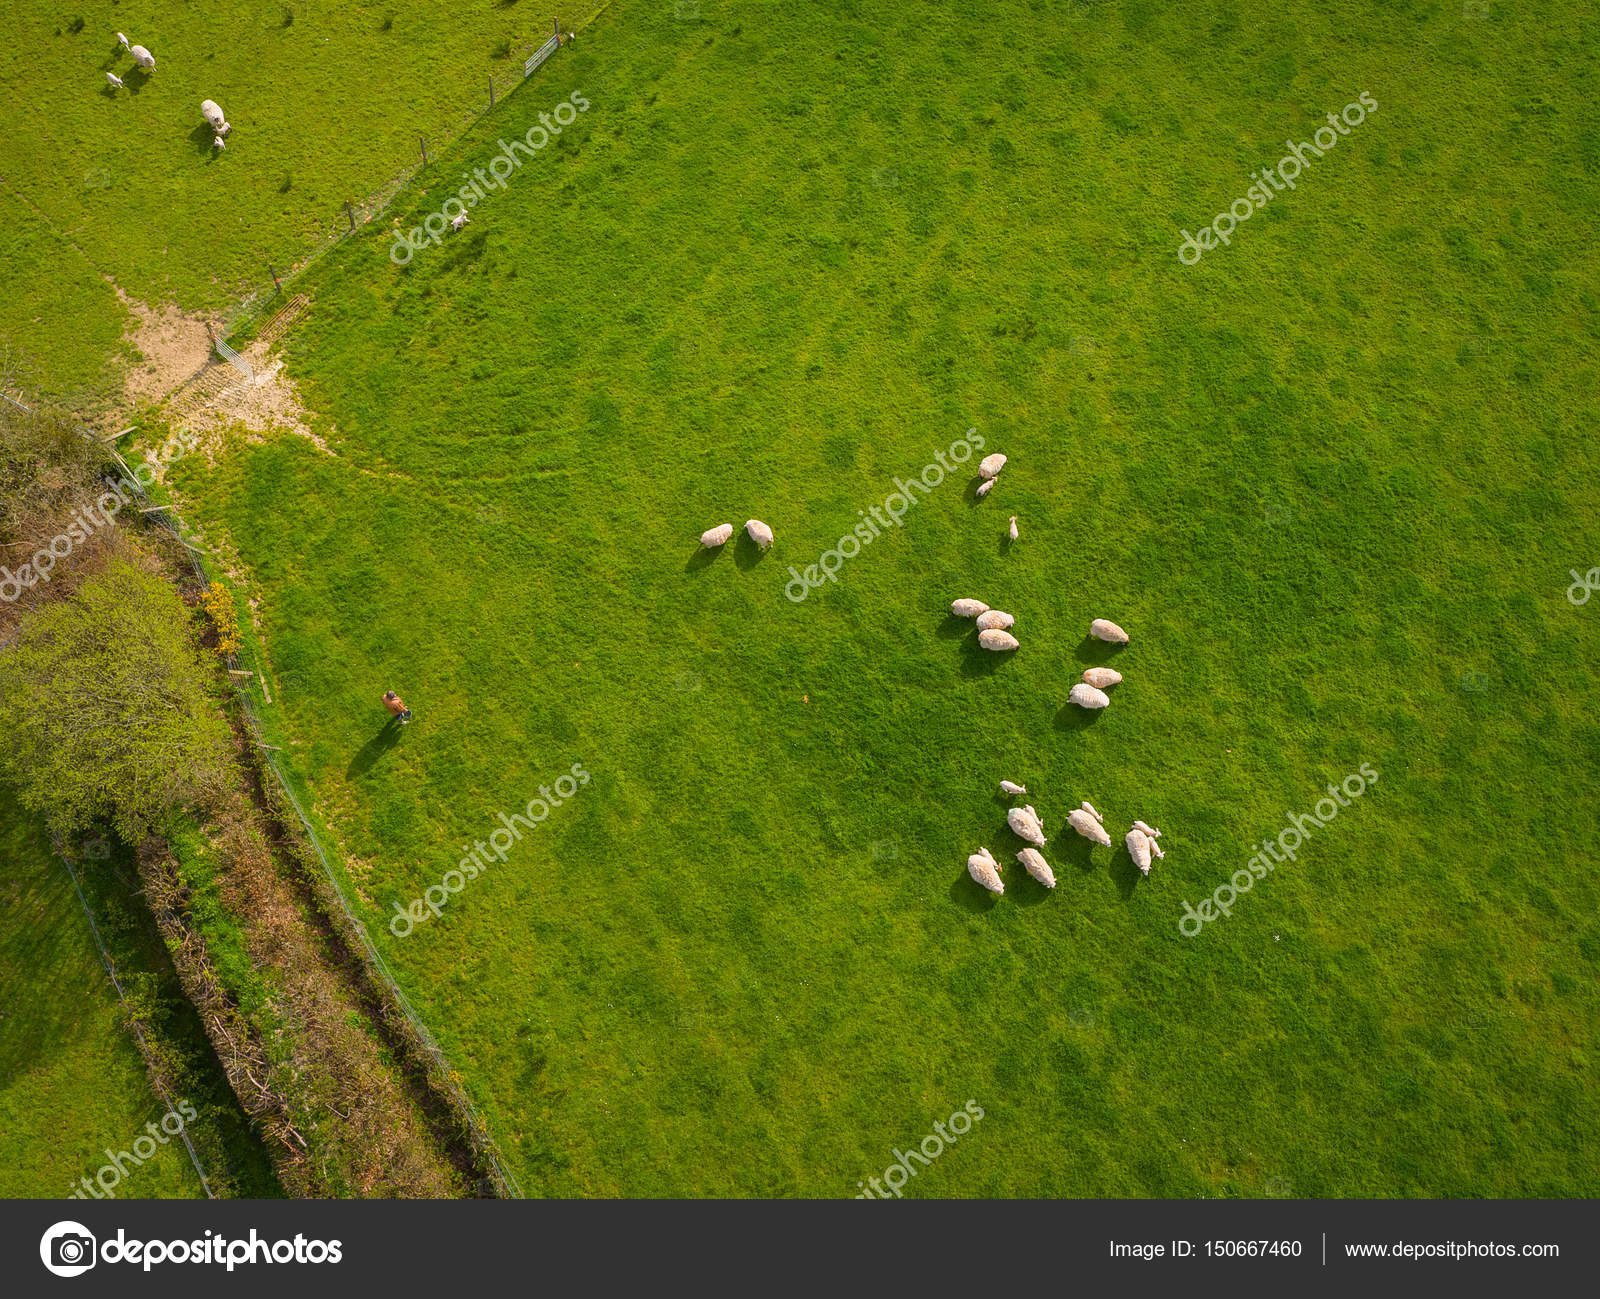sheep: (1062, 807, 1114, 848), (1013, 847, 1058, 889), (1006, 805, 1049, 848), (966, 852, 1006, 896), (1125, 828, 1153, 876), (1066, 683, 1112, 710), (200, 98, 233, 134), (742, 516, 775, 551), (696, 521, 734, 551), (977, 627, 1021, 653), (1090, 616, 1129, 644), (978, 452, 1011, 481), (976, 608, 1015, 632), (1080, 667, 1124, 688), (949, 596, 992, 618), (129, 41, 156, 72), (1131, 818, 1163, 839), (976, 475, 1000, 498), (998, 779, 1027, 797), (1007, 514, 1022, 543), (105, 69, 125, 90), (117, 30, 133, 50)
